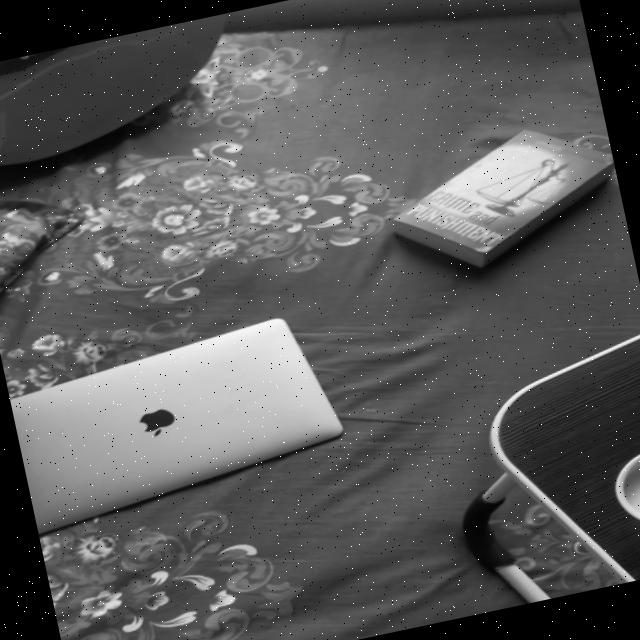book: (366, 99, 632, 296)
guitar: (0, 8, 276, 191)
laptop: (7, 312, 359, 526)
table: (419, 328, 640, 615)
